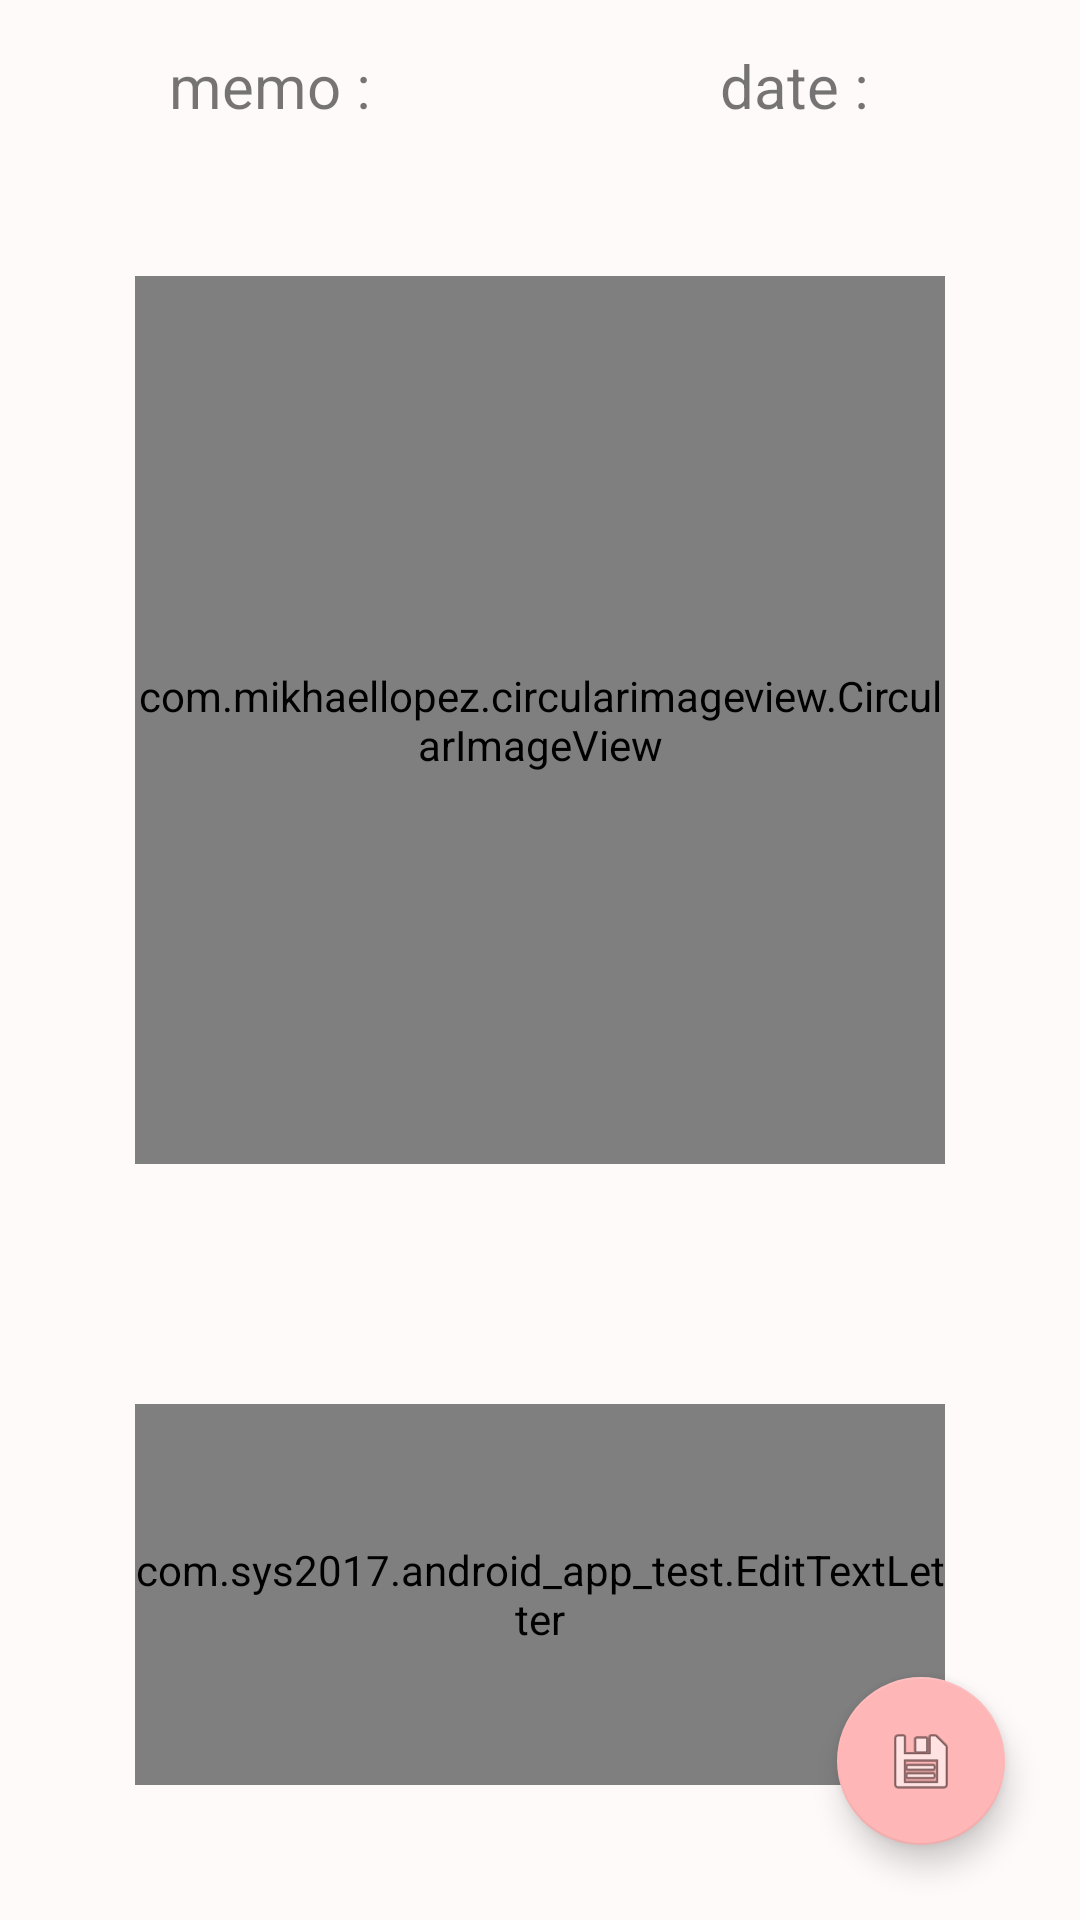

Where to tap for icons on this 1080w x 1920h app screen, as [x,y]:
save: [921,1761]
